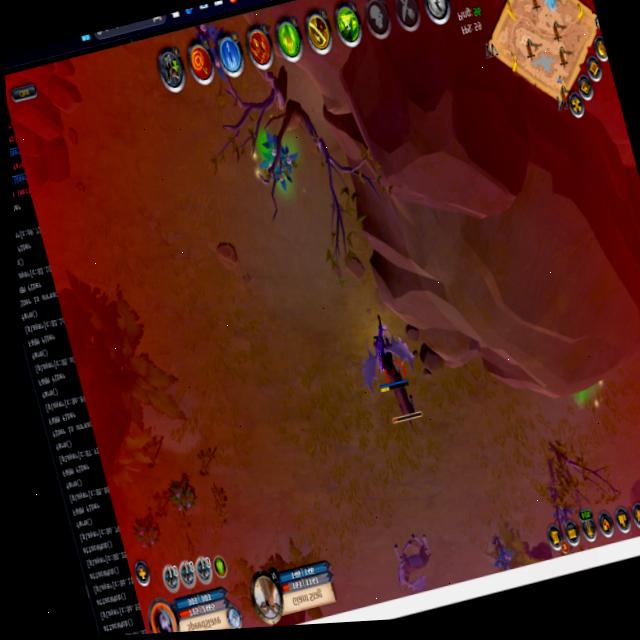hide: (249, 127, 306, 199), (163, 465, 203, 523), (128, 506, 169, 556), (543, 482, 579, 535), (484, 529, 517, 574)
mob: (383, 528, 442, 598)
ore: (373, 348, 428, 441)
red: (363, 316, 411, 396)
